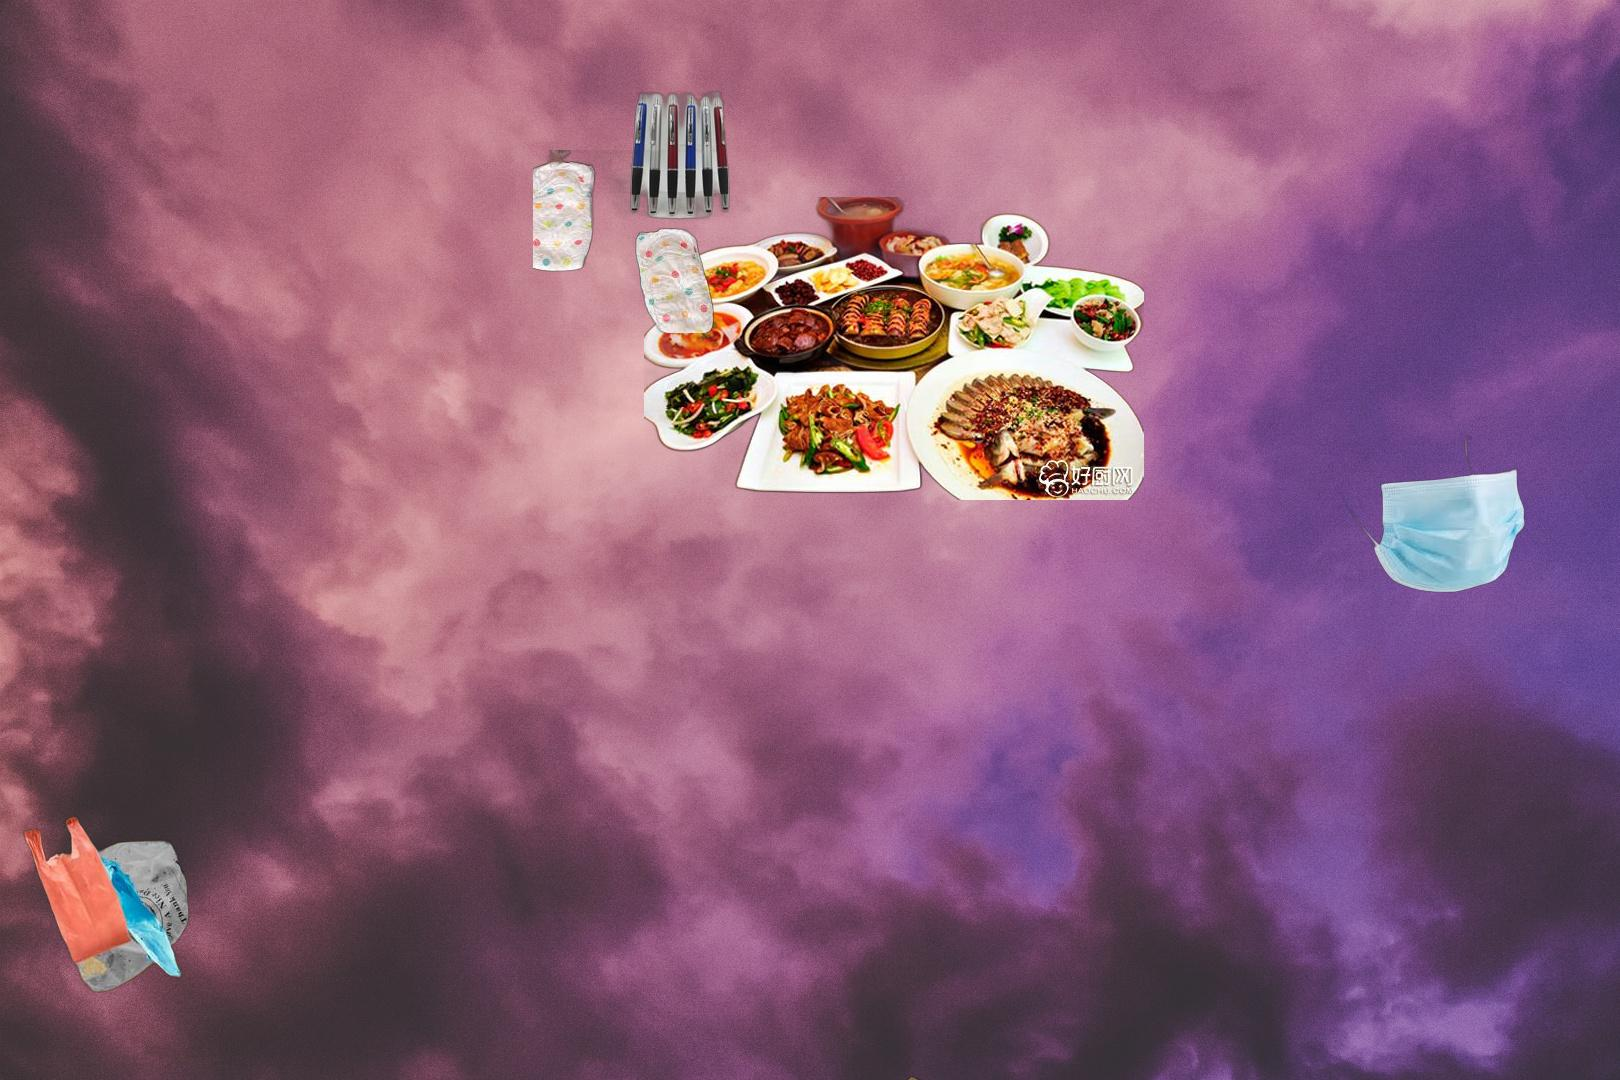biological: (644, 196, 1144, 500)
paper-bag: (873, 1074, 1003, 1080)
penholder: (622, 82, 755, 223)
plastic-bag: (20, 814, 190, 994)
trash: (533, 149, 716, 333), (1330, 434, 1528, 595)
